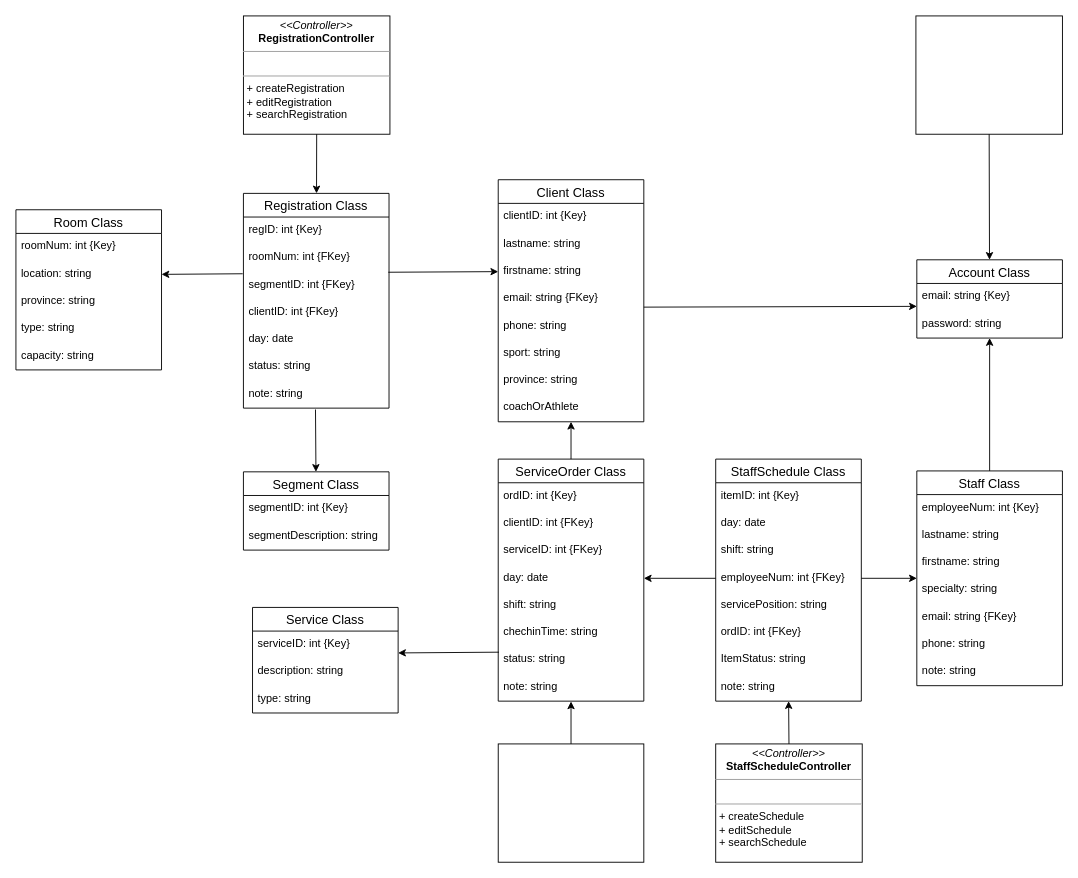
Some shapes in this 1078 by 878 pixel diagram are drawn without their labels. The centre of each missing label's shape, as x and y in pixels:
<<Controller>> AccountController + createAccount + searchAccount: the point at 988,74
<<Controller>> ServiceOrderController + createOrder + editOrder + searchOrder: the point at 570,802
